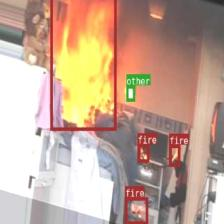fire: (50, 0, 116, 130), (124, 197, 148, 224), (169, 144, 180, 165), (138, 144, 148, 162)
